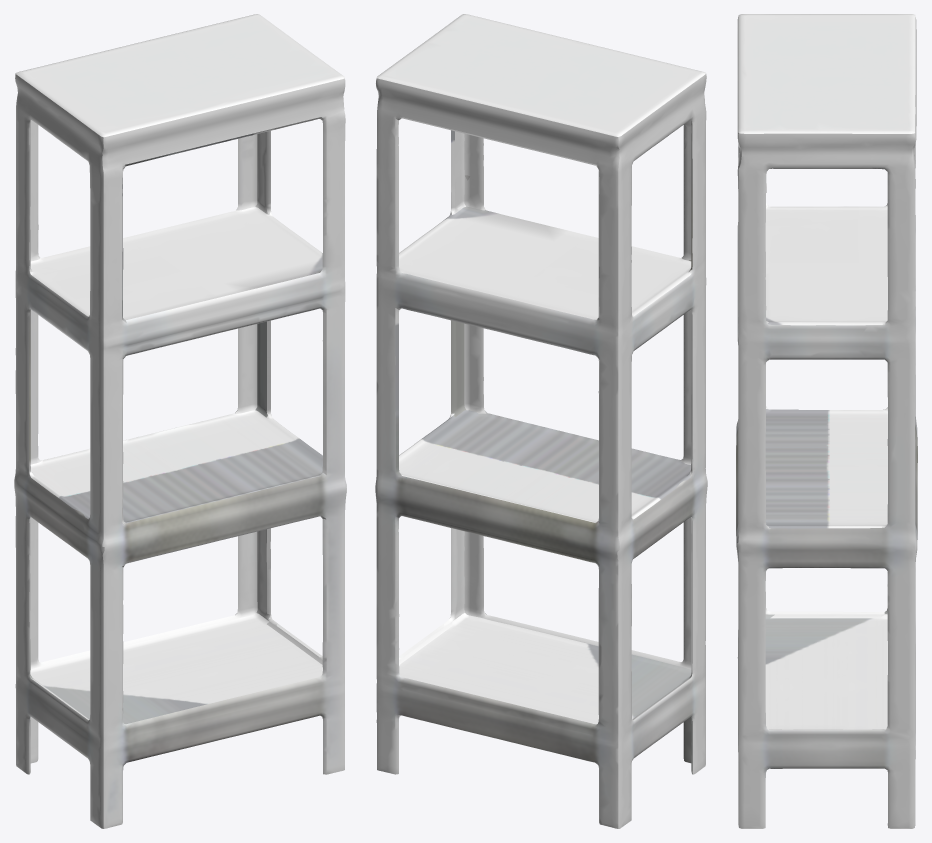
File: shelf__shelf#5.glb
3 views of the same model, side by side, from view 1: azimuth 30°, elevation 25°; view 2: azimuth 150°, elevation 25°; view 3: azimuth 270°, elevation 25° (orthographic).
Visible parts, largest first — view 1: tmpu3ihnsib.ply; view 2: tmpu3ihnsib.ply; view 3: tmpu3ihnsib.ply.
Part boxes in pixels (<box>): tmpu3ihnsib.ply: <box>14,14,346,828</box>; tmpu3ihnsib.ply: <box>375,14,707,828</box>; tmpu3ihnsib.ply: <box>736,14,917,828</box>.
Size of the model in its own units: 0.7413 by 1.99 by 0.4697.
Materials: 1 (1 with a texture image).
